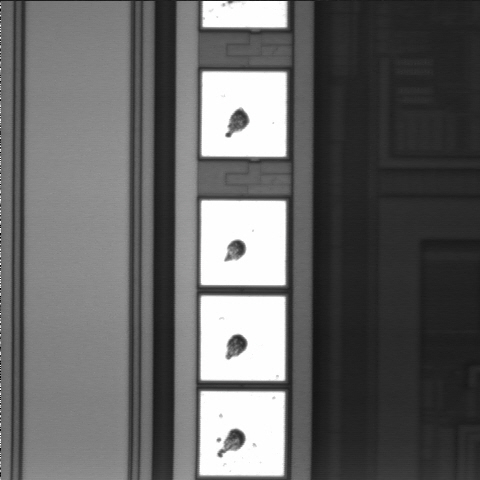pad: (201, 200, 286, 285), (200, 391, 285, 476), (202, 72, 286, 157), (201, 296, 285, 381)
